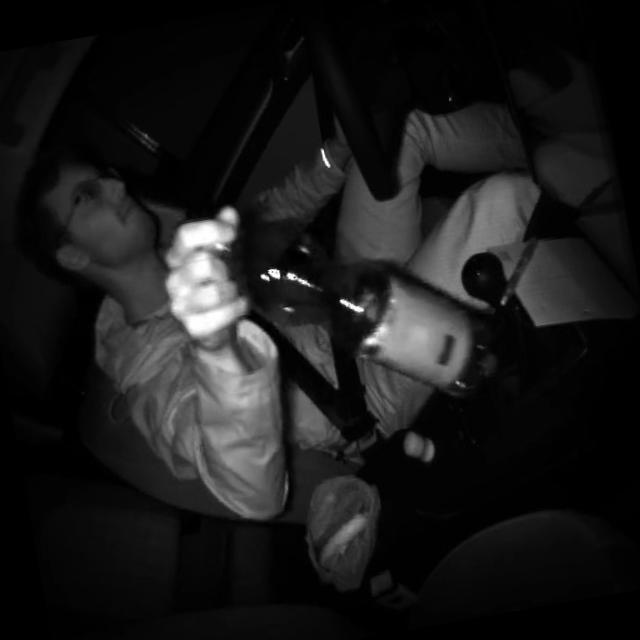pen: (486, 230, 551, 308)
